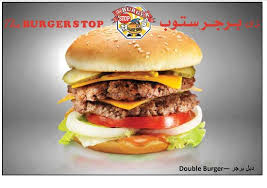hamburger: (61, 23, 223, 156)
